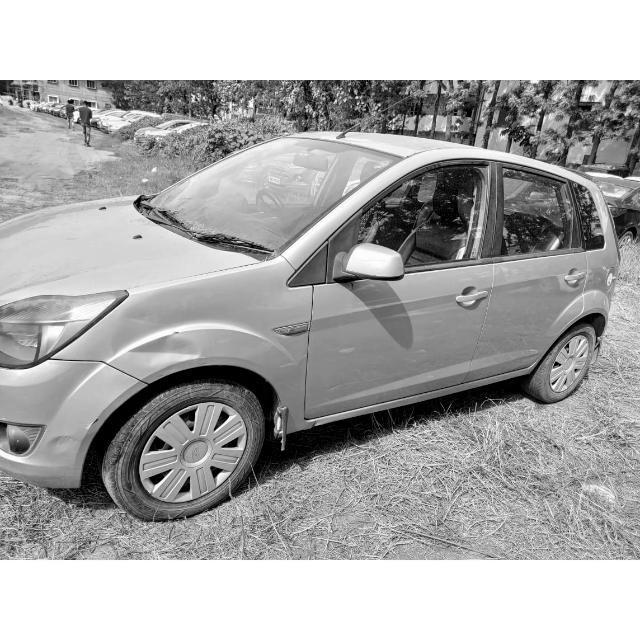fender-dent: (112, 293, 311, 402)
front-bumper-dent: (0, 359, 108, 487)
